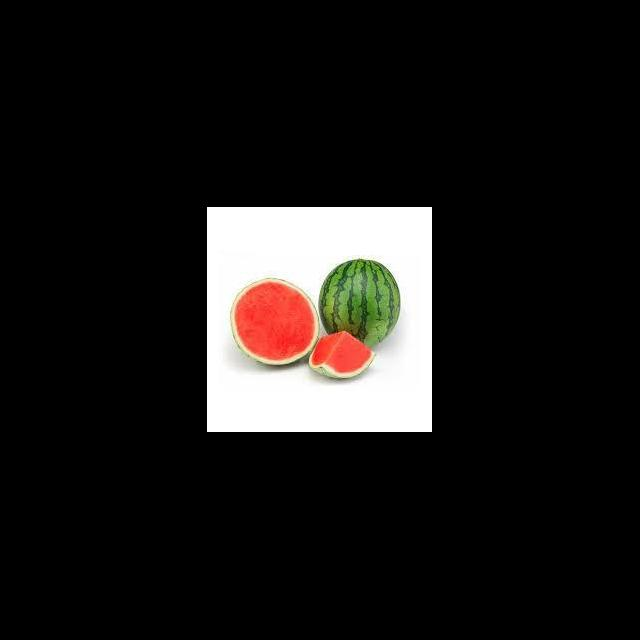watermelon: (230, 278, 320, 367), (319, 259, 401, 349), (308, 332, 376, 381)
